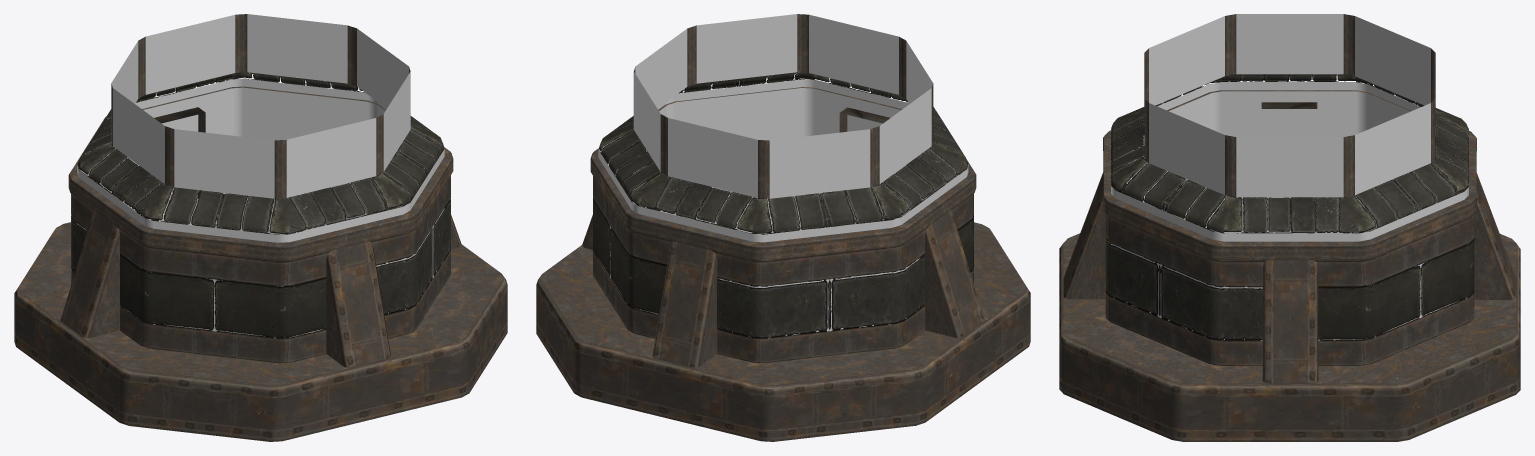
3 views of the same model, side by side, from view 1: azimuth 30°, elevation 25°; view 2: azimuth 150°, elevation 25°; view 3: azimuth 270°, elevation 25° (orthographic). The views are drawn at different scales.
Visible parts, largest first — view 1: SM_Dowdun_Corner_Turret_04_LOD0; view 2: SM_Dowdun_Corner_Turret_04_LOD0; view 3: SM_Dowdun_Corner_Turret_04_LOD0.
Part boxes in pixels (left/top/right/bottom): SM_Dowdun_Corner_Turret_04_LOD0: left=14, top=14, right=507, bottom=441; SM_Dowdun_Corner_Turret_04_LOD0: left=536, top=14, right=1030, bottom=441; SM_Dowdun_Corner_Turret_04_LOD0: left=1059, top=14, right=1520, bottom=441.
Size of the model in its own units: 9.36 by 6.02 by 9.36.
Materials: 3 (2 with a texture image).
